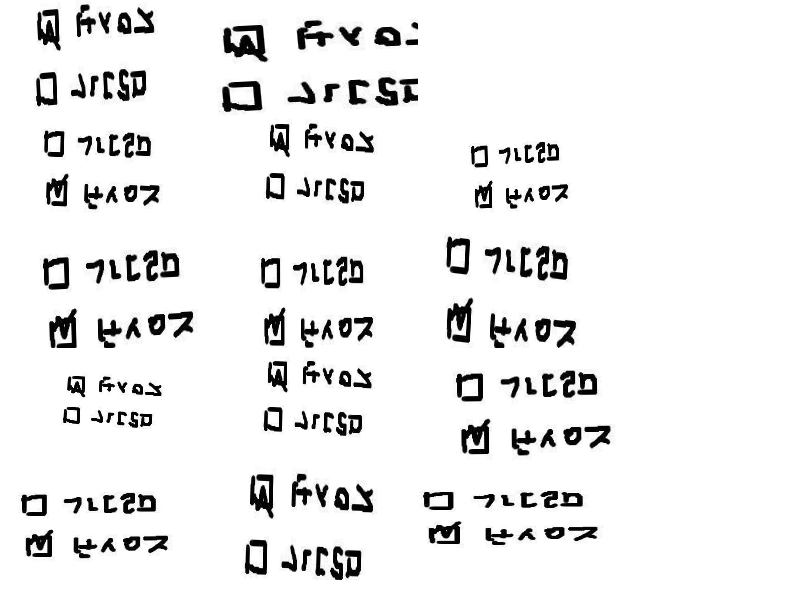button: (0, 0, 209, 116), (209, 0, 418, 116), (0, 116, 209, 232), (209, 116, 418, 232), (418, 116, 627, 232), (0, 232, 209, 348), (209, 232, 418, 348), (418, 232, 627, 348), (0, 348, 209, 464), (209, 348, 418, 464), (418, 348, 627, 464), (0, 464, 209, 580), (209, 464, 418, 580), (418, 464, 627, 580)
